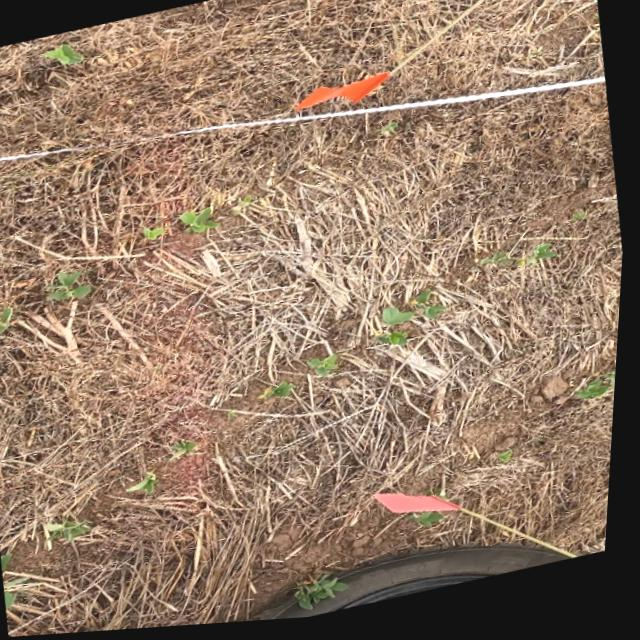soy_plant: (380, 295, 448, 352), (8, 553, 66, 610), (303, 578, 354, 614), (482, 249, 559, 272), (51, 271, 95, 301), (50, 519, 97, 547), (582, 377, 621, 407), (183, 208, 220, 234), (45, 44, 84, 65), (133, 473, 164, 496), (313, 358, 344, 380), (265, 384, 300, 401), (175, 441, 201, 463), (418, 517, 449, 532), (0, 307, 16, 336), (146, 229, 168, 242), (383, 127, 400, 141), (504, 457, 519, 470)
